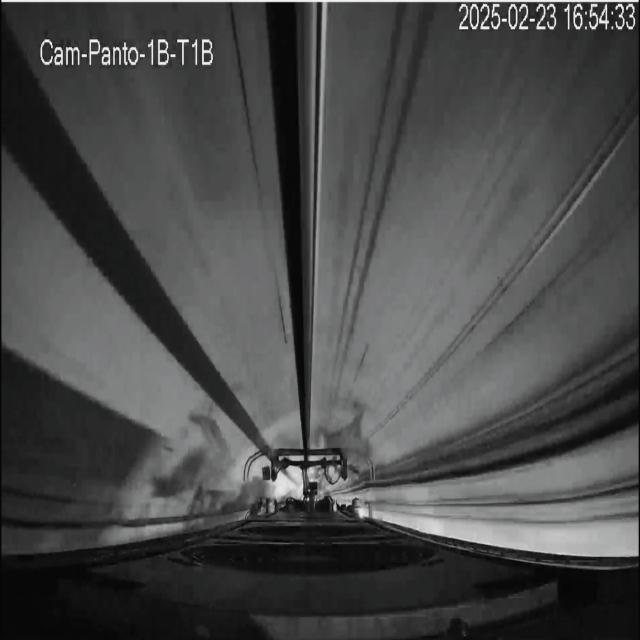Camera Stamp: (35, 28, 219, 70)
Date Stamp: (459, 3, 637, 33)
No - Spark: (252, 447, 355, 515)
